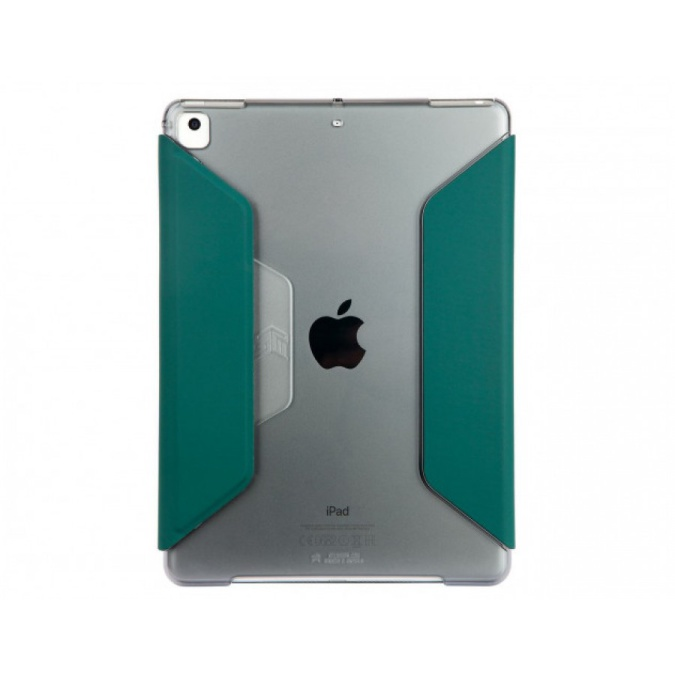apple: (305, 287, 373, 384)
